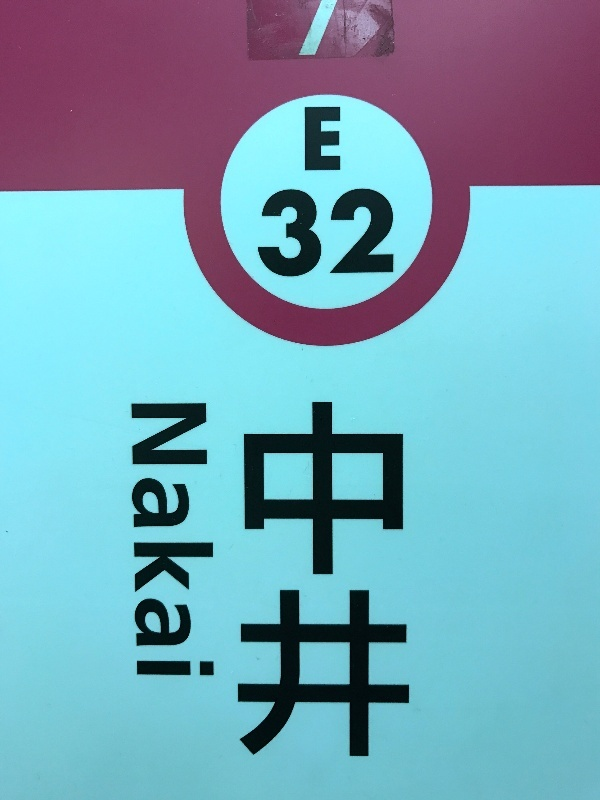text: (257, 405, 272, 762), (273, 405, 288, 762), (289, 405, 304, 762), (305, 405, 320, 762), (321, 405, 336, 762), (337, 405, 352, 762), (353, 405, 368, 762), (369, 405, 384, 762), (385, 405, 400, 762), (244, 405, 256, 762), (145, 402, 160, 683), (161, 402, 176, 683), (177, 402, 192, 683), (193, 402, 208, 683), (131, 402, 144, 683), (401, 405, 411, 762), (209, 402, 216, 683), (257, 189, 272, 280), (273, 189, 288, 280), (289, 189, 304, 280), (305, 189, 320, 280), (321, 189, 336, 280), (337, 189, 352, 280), (353, 189, 368, 280), (369, 189, 384, 280), (305, 102, 320, 174), (321, 102, 336, 174), (385, 189, 396, 280), (337, 102, 343, 174)
